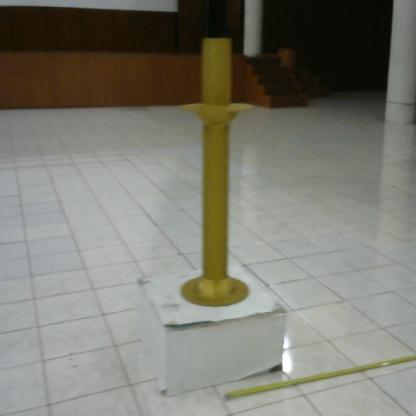pole: (175, 31, 260, 316)
